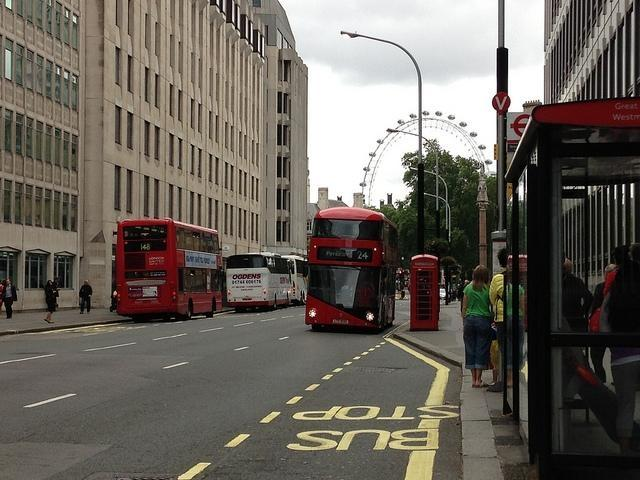bus: (116, 219, 222, 327), (309, 206, 397, 330), (225, 251, 293, 314), (284, 255, 306, 305)
